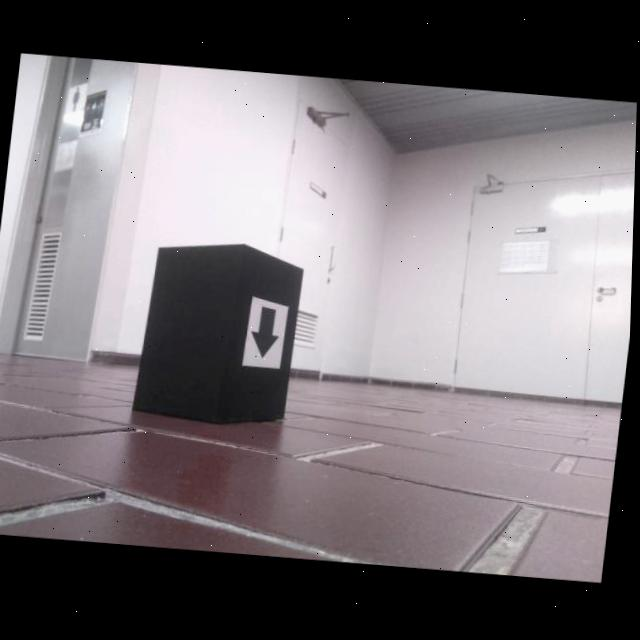DOWN: (252, 305, 283, 360)
